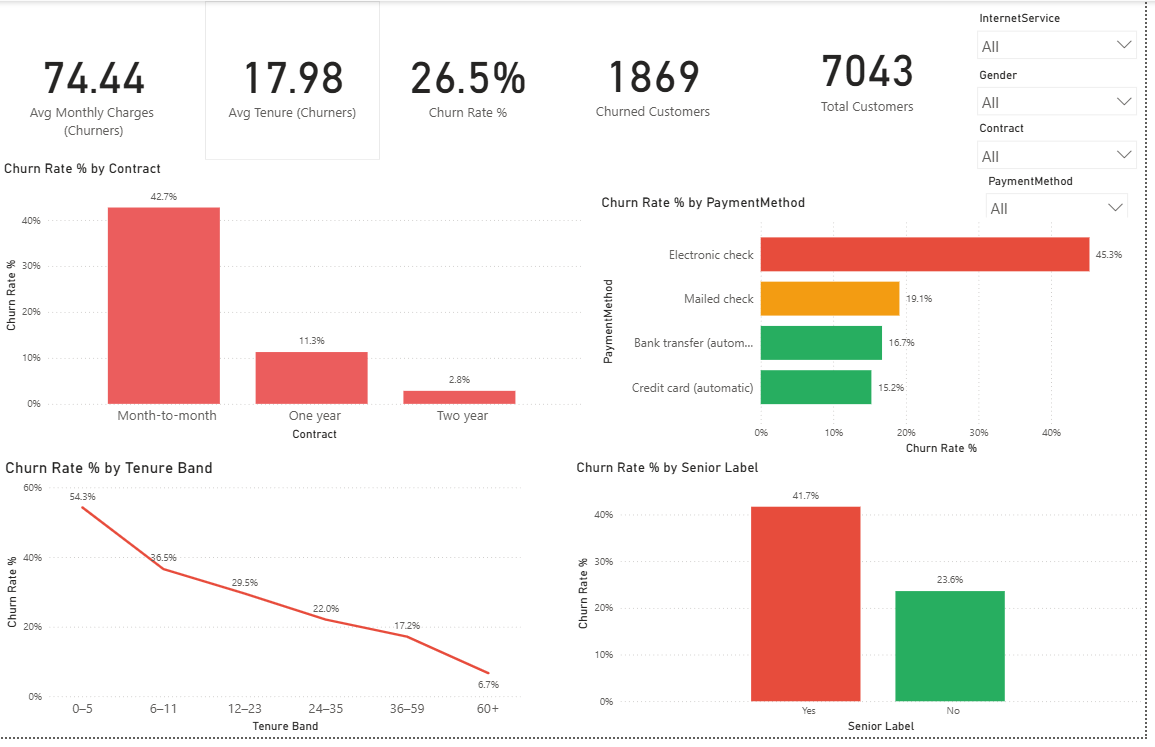

Layout of this report page (visuals, bound fields, positions):
{"tool":"powerbi","page":{"name":"Page 1","canvas":[1400,900],"ordinal":0},"visuals":[{"type":"card","fields":{"Values":["telco_churn_clean.Avg Monthly Charges (Churners)"]},"box":[1.5,0,226.2,194.1],"z":0},{"type":"card","fields":{"Values":["telco_churn_clean.Avg Tenure (Churners)"]},"box":[250.7,0,214,194.1],"z":1000},{"type":"card","fields":{"Values":["telco_churn_clean.Churn Rate %"]},"box":[464.7,0,215.5,194.1],"z":2000},{"type":"card","fields":{"Values":["telco_churn_clean.Churned Customers"]},"box":[700.1,7.6,197.2,177.3],"z":3000},{"type":"card","fields":{"Values":["telco_churn_clean.Total Customers"]},"box":[938.5,7.6,244.6,163.6],"z":4000},{"type":"clusteredColumnChart","fields":{"Y":["telco_churn_clean.Churn Rate %"],"Category":["telco_churn_clean.Contract"]},"box":[0,194.1,715.4,348.5],"z":5000},{"type":"clusteredBarChart","fields":{"Category":["telco_churn_clean.PaymentMethod"],"Y":["telco_churn_clean.Churn Rate %"]},"box":[730.6,235.4,658.8,324.1],"z":6000},{"type":"lineChart","fields":{"Category":["telco_churn_clean.Tenure Band"],"Y":["telco_churn_clean.Churn Rate %"]},"box":[1.5,559.4,640.5,340.9],"z":7000},{"type":"clusteredColumnChart","fields":{"Y":["telco_churn_clean.Churn Rate %"],"Category":["telco_churn_clean.Senior Label"]},"box":[700.1,559.4,700.1,340.9],"z":8000},{"type":"slicer","fields":{"Values":["telco_churn_clean.InternetService"]},"box":[1184.6,7.6,215.5,68.8],"z":9000},{"type":"slicer","fields":{"Values":["telco_churn_clean.Gender"]},"box":[1184.6,76.4,215.5,65.7],"z":10000},{"type":"slicer","fields":{"Values":["telco_churn_clean.Contract"]},"box":[1184.6,142.2,215.5,64.2],"z":10001},{"type":"slicer","fields":{"Values":["telco_churn_clean.PaymentMethod"]},"box":[1195.3,206.4,194.1,58.1],"z":10002}]}

Visuals, with their boxes in screenshot pixels (x1, y1, x2, y2), scaled from the page's 1400x900 canvas onto the 1155x747 screenshot:
card - telco_churn_clean.Avg Monthly Charges (Churners): (1,0,188,161)
card - telco_churn_clean.Avg Tenure (Churners): (207,0,383,161)
card - telco_churn_clean.Churn Rate %: (383,0,561,161)
card - telco_churn_clean.Churned Customers: (578,6,740,153)
card - telco_churn_clean.Total Customers: (774,6,976,142)
clusteredColumnChart - telco_churn_clean.Churn Rate % x telco_churn_clean.Contract: (0,161,590,450)
clusteredBarChart - telco_churn_clean.PaymentMethod x telco_churn_clean.Churn Rate %: (603,195,1146,464)
lineChart - telco_churn_clean.Tenure Band x telco_churn_clean.Churn Rate %: (1,464,530,746)
clusteredColumnChart - telco_churn_clean.Churn Rate % x telco_churn_clean.Senior Label: (578,464,1154,746)
slicer - telco_churn_clean.InternetService: (977,6,1154,63)
slicer - telco_churn_clean.Gender: (977,63,1154,118)
slicer - telco_churn_clean.Contract: (977,118,1154,171)
slicer - telco_churn_clean.PaymentMethod: (986,171,1146,220)
